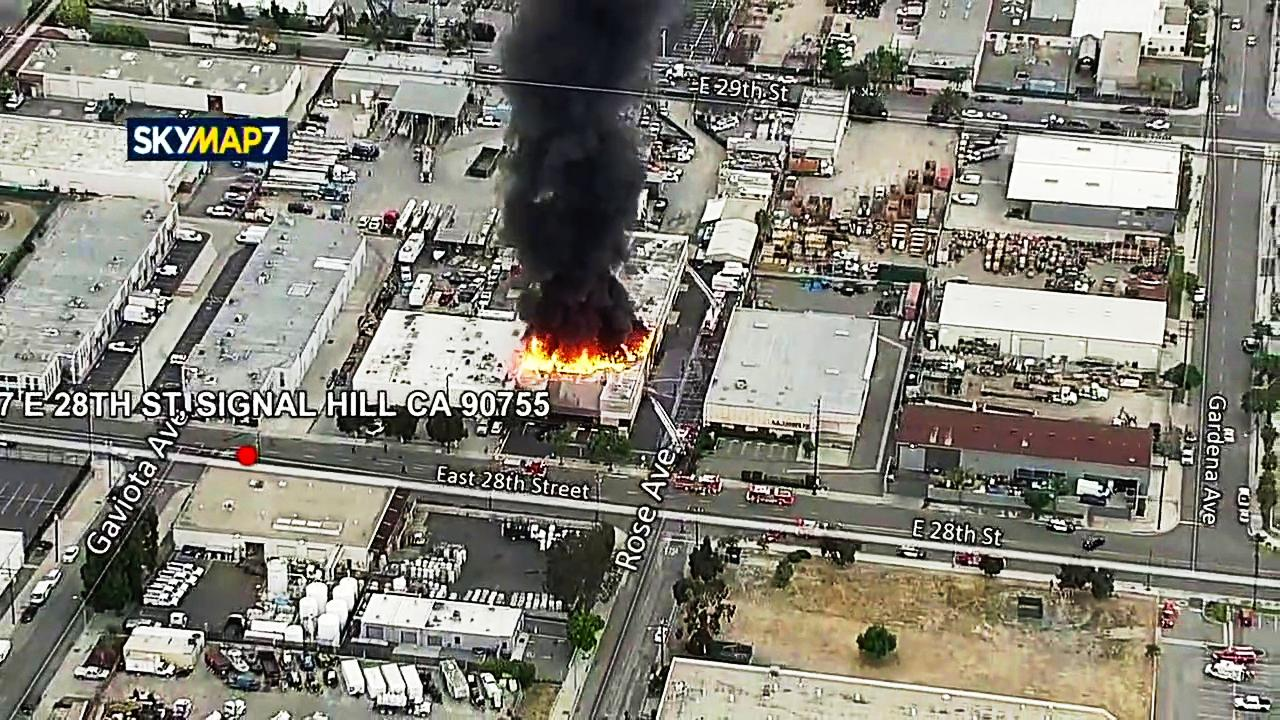fire: (509, 334, 632, 375)
smoke: (526, 0, 632, 333)
